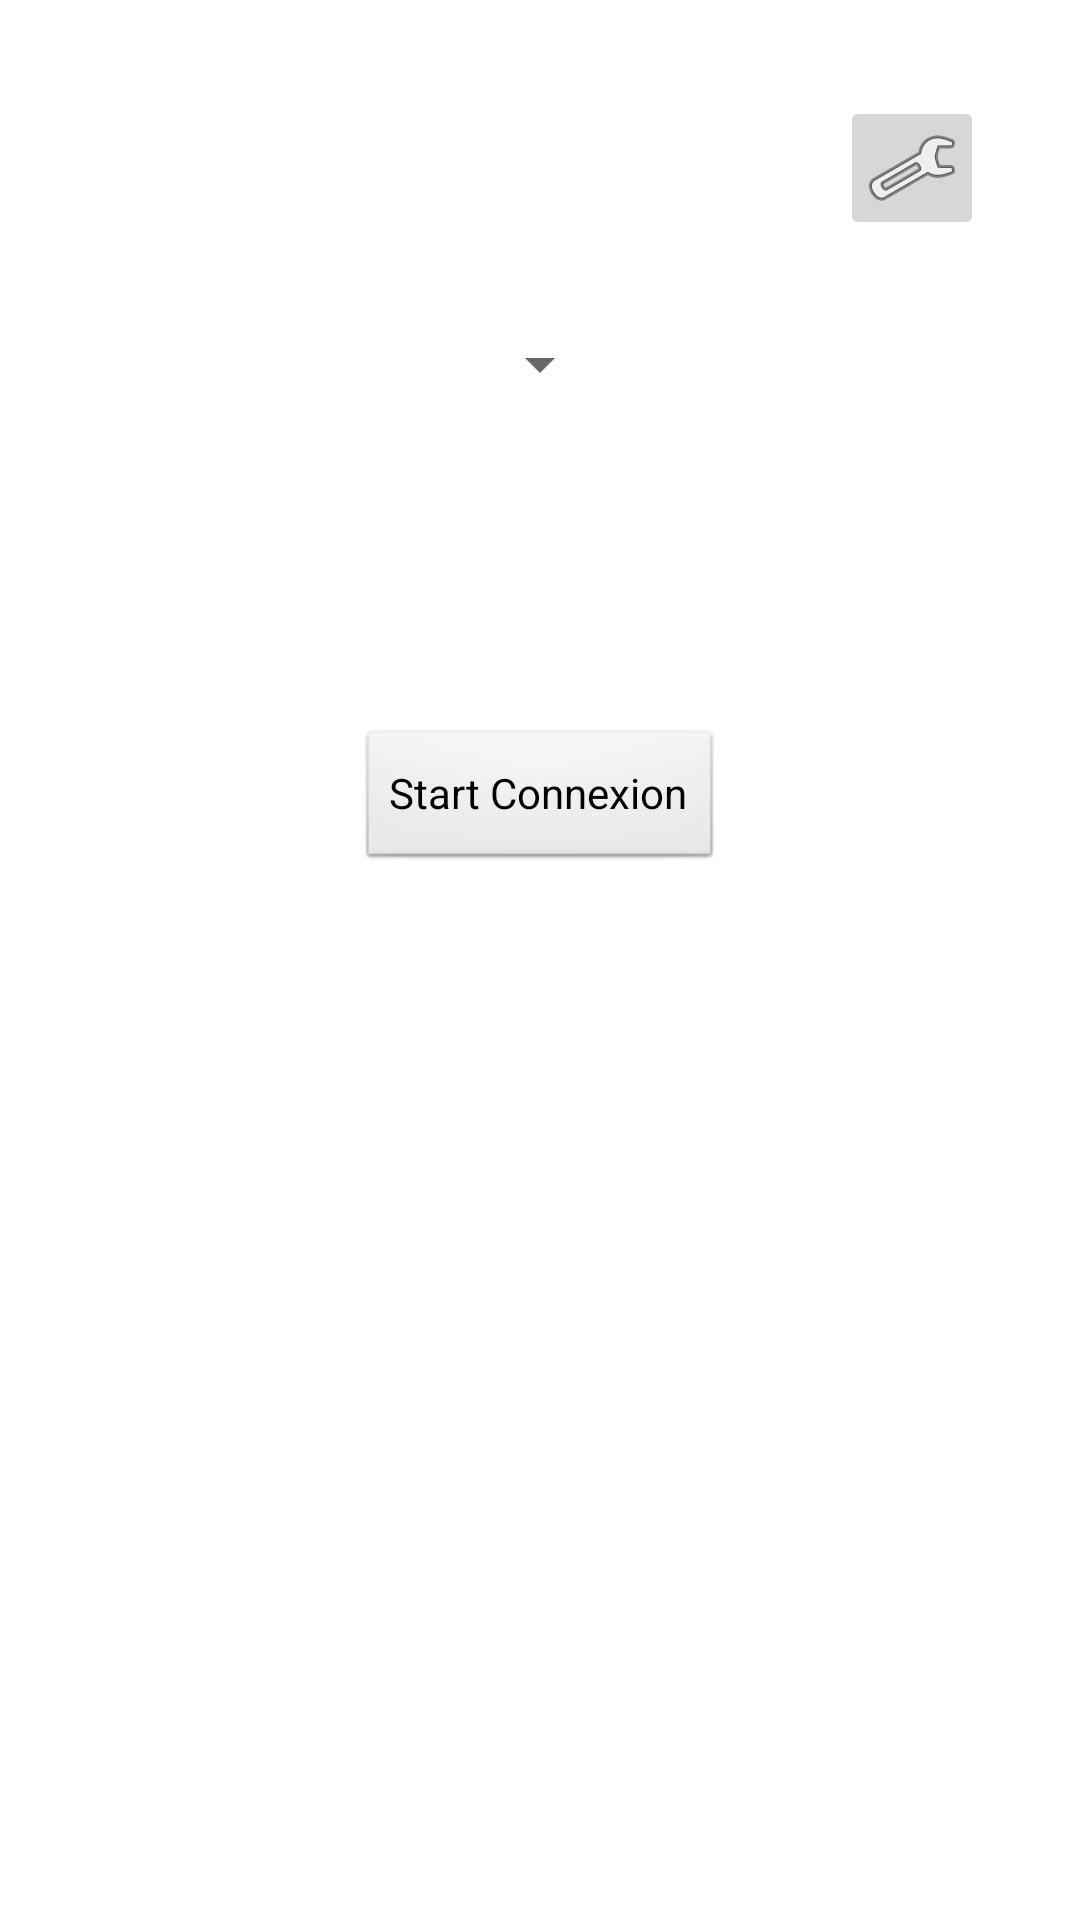

Icon click points for this 1080 x 1920 phone screenshot, format point (x, y):
preferences: point (912, 168)
